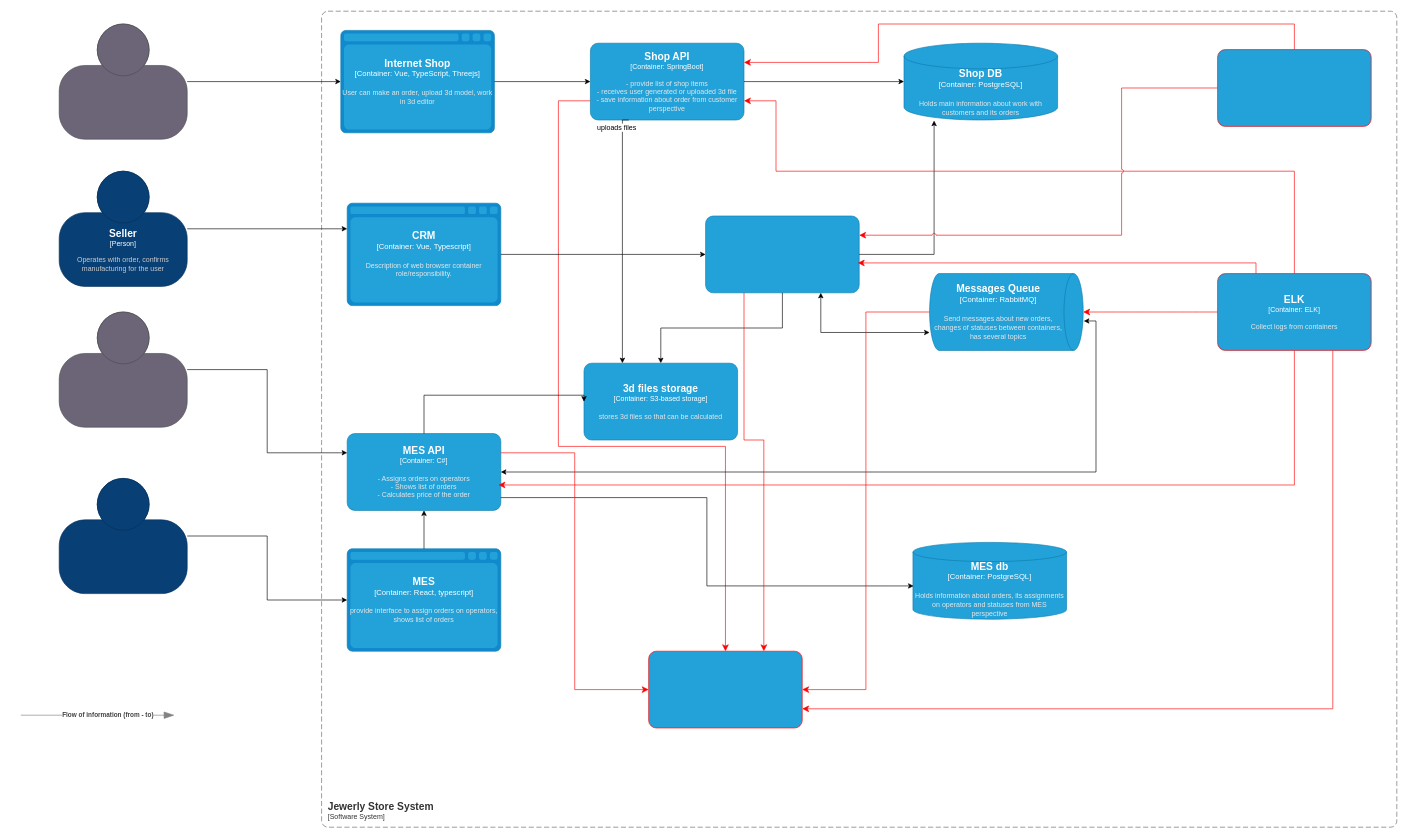
The diagram is 1408 pixels wide and 838 high, and some of its shapes have lost their labels. Each missing label, with the box of its shape:
API user [Person] Description of external person.: (59, 311, 187, 427)
CRM API [Container: SpringBoot] Description of container role/responsibility.: (705, 215, 859, 293)
Customer [Person] Description of external person.: (59, 23, 187, 139)
OpenTelemetry [Container: OpenTelemetry] Collect traces: (648, 651, 802, 728)
Operator [Person] Takes order in work, manufactures jewerly: (59, 478, 187, 594)
Prometheus [Container: Prometheus] Collect metrics: (1217, 49, 1371, 126)
